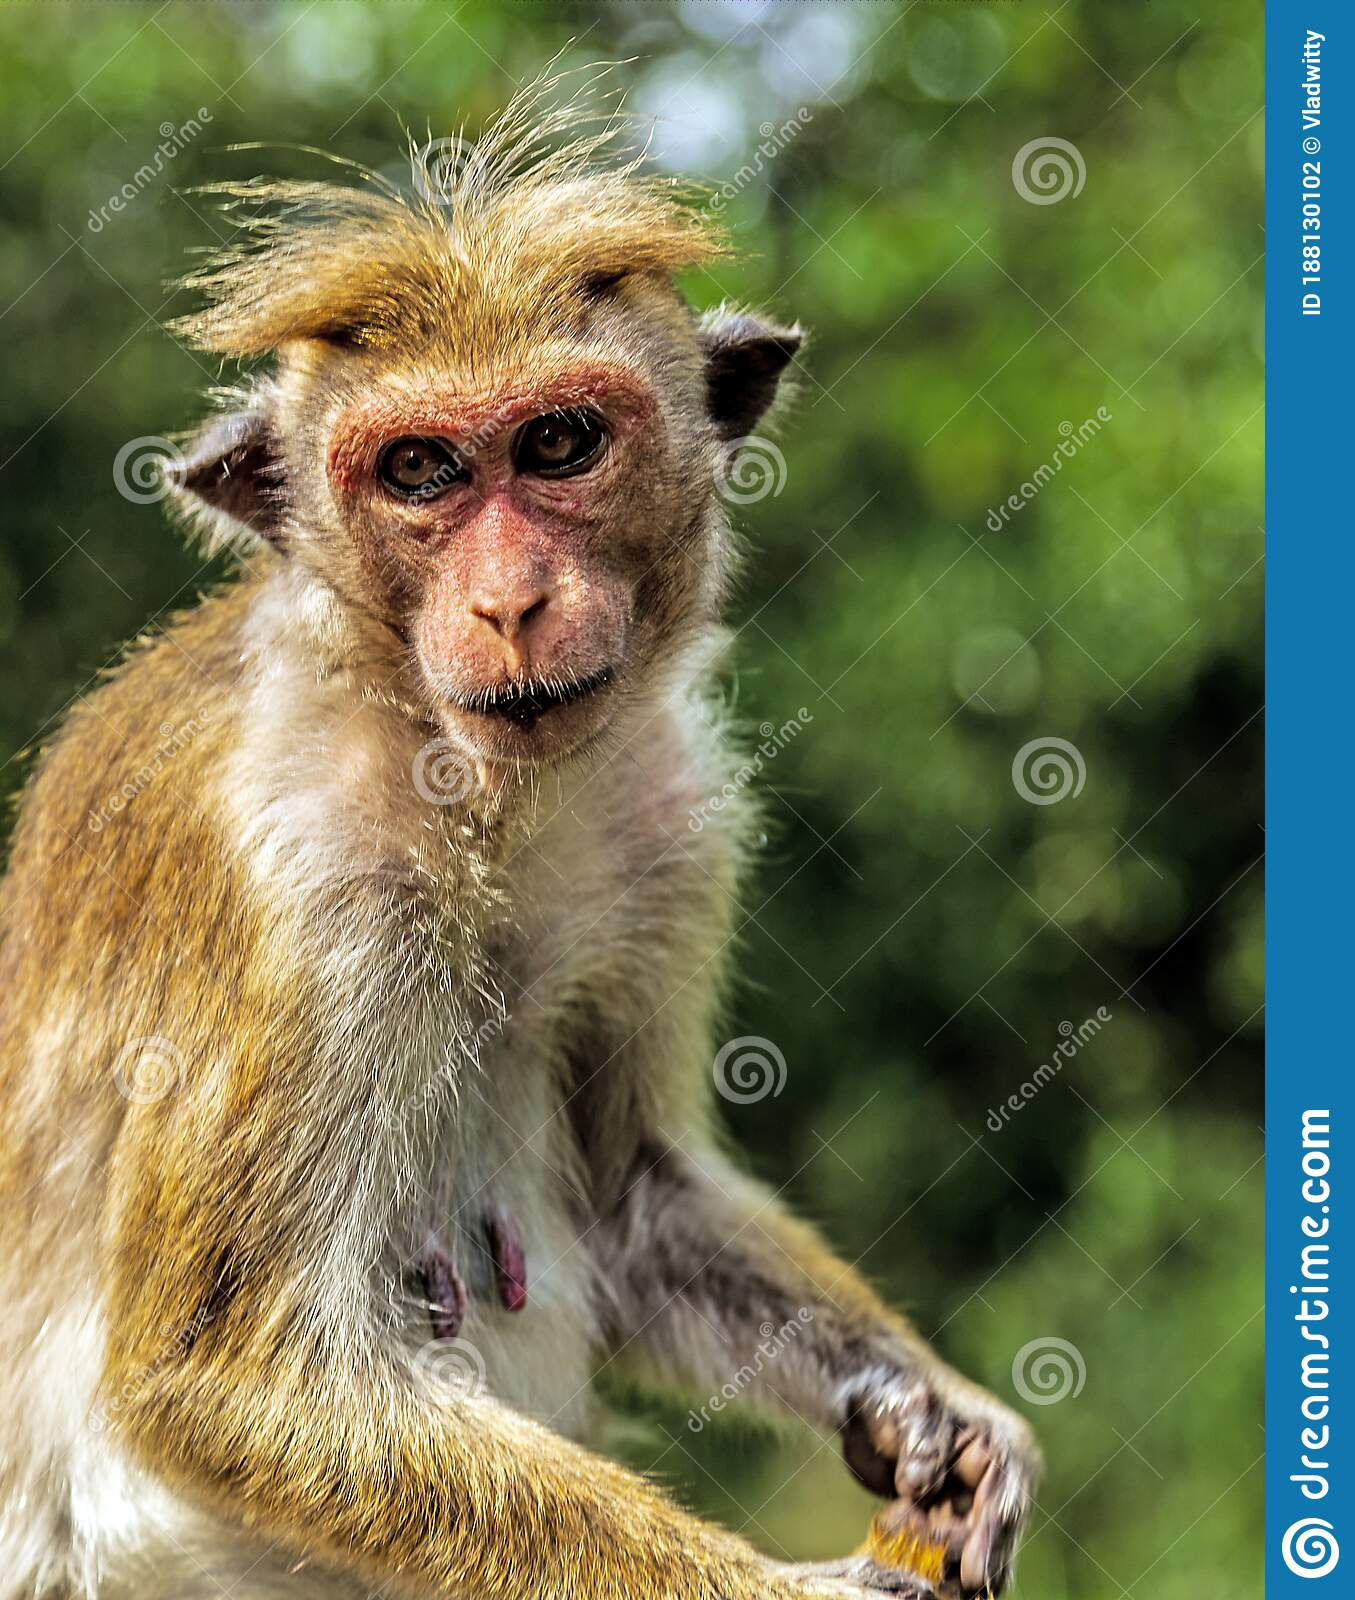Monkey: (1, 81, 1094, 1600)
